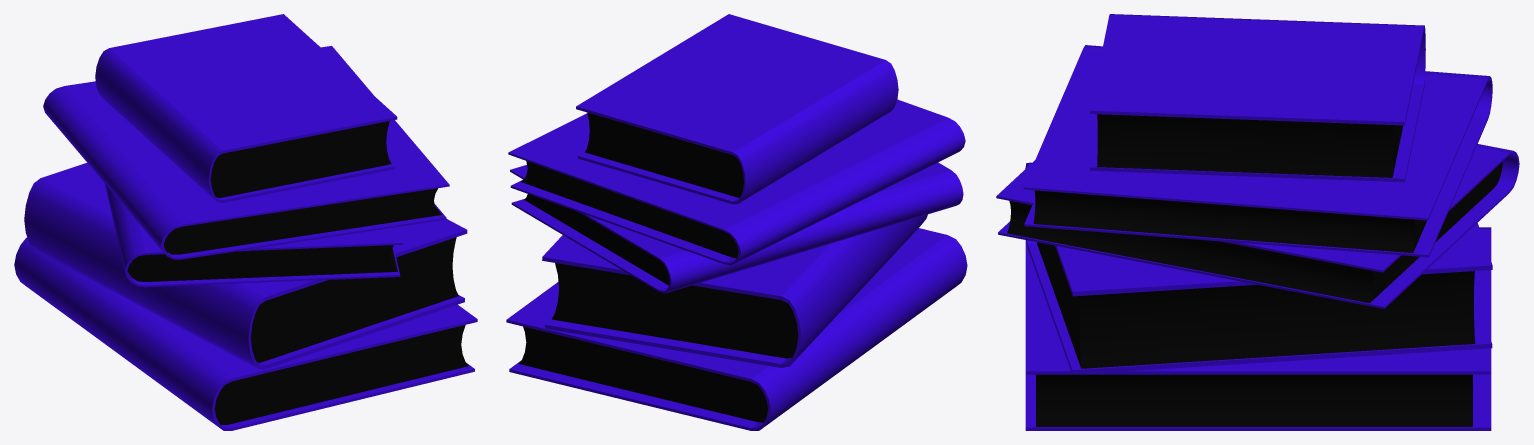
Rendered from stack_of_books.glb.
3 views of the same model, side by side, from view 1: azimuth 30°, elevation 25°; view 2: azimuth 150°, elevation 25°; view 3: azimuth 270°, elevation 25° (orthographic). The views are drawn at different scales.
Parts seen in each view (by area): view 1: cover004, cover003, cover001, cover, Paper001, Paper, Paper004, Paper003, Paper002, cover002; view 2: cover004, cover003, cover, cover001, Paper001, cover002, Paper, Paper004, Paper003, Paper002; view 3: cover004, Paper001, cover003, Paper, Paper004, cover, Paper003, Paper002, cover001, cover002.
Boxes of the visible parts, box(x1,y1,x2,y2) form: cover004: box(95, 14, 397, 202); cover003: box(43, 46, 449, 259); cover001: box(24, 163, 467, 369); cover: box(14, 237, 477, 430); Paper001: box(250, 237, 458, 362); Paper: box(214, 325, 468, 424); Paper004: box(210, 121, 391, 197); Paper003: box(163, 188, 441, 254); Paper002: box(127, 245, 397, 281); cover002: box(105, 184, 403, 287); cover004: box(576, 14, 898, 204); cover003: box(508, 99, 965, 265); cover: box(506, 228, 967, 430); cover001: box(542, 214, 927, 367); Paper001: box(551, 263, 798, 358); cover002: box(510, 162, 963, 293); Paper: box(518, 326, 767, 422); Paper004: box(585, 112, 743, 197); Paper003: box(521, 161, 738, 258); Paper002: box(524, 194, 669, 285); cover004: box(1090, 14, 1425, 182); Paper001: box(1037, 242, 1475, 368); cover003: box(1023, 45, 1492, 257); Paper: box(1036, 374, 1472, 426); Paper004: box(1097, 114, 1403, 177); cover: box(1025, 227, 1491, 430); Paper003: box(1033, 190, 1426, 252); Paper002: box(1007, 161, 1502, 303); cover001: box(1025, 162, 1492, 374); cover002: box(996, 144, 1519, 308).
Size of the model in its own units: 0.0182 by 0.0123 by 0.02.
